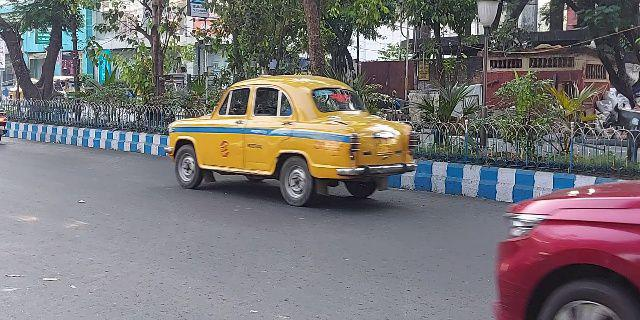Car: (162, 70, 421, 207), (486, 178, 640, 320)
